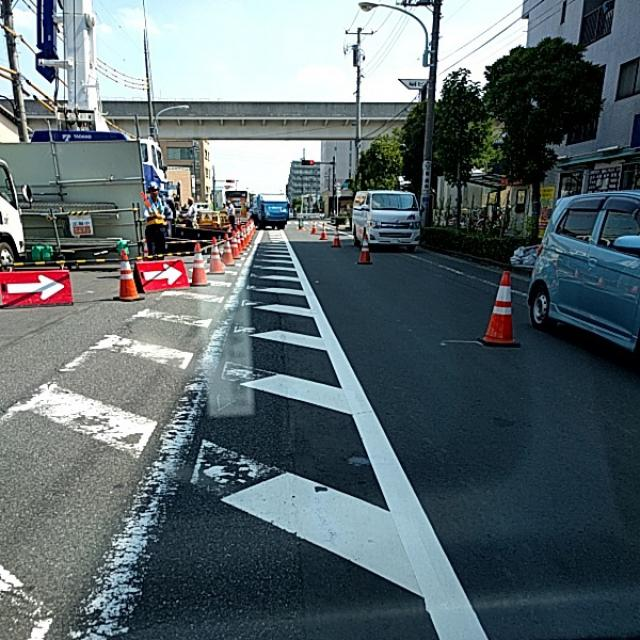pothole: (99, 396, 191, 499)
